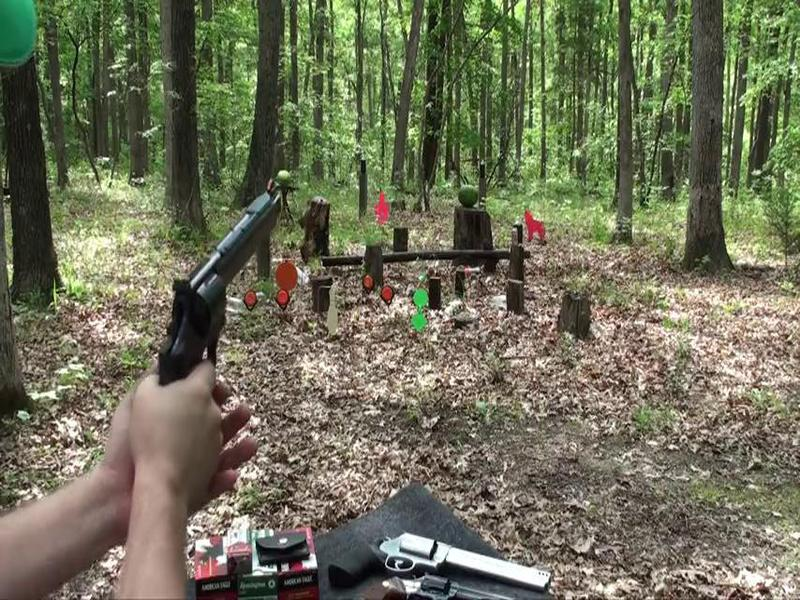Revolver: (145, 175, 277, 405)
